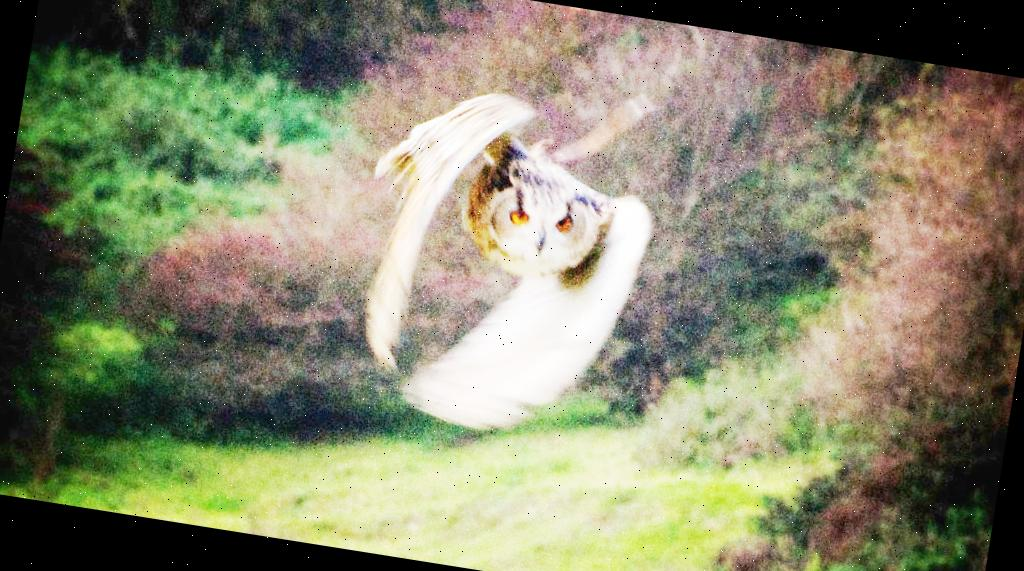Owl: (334, 73, 670, 459)
